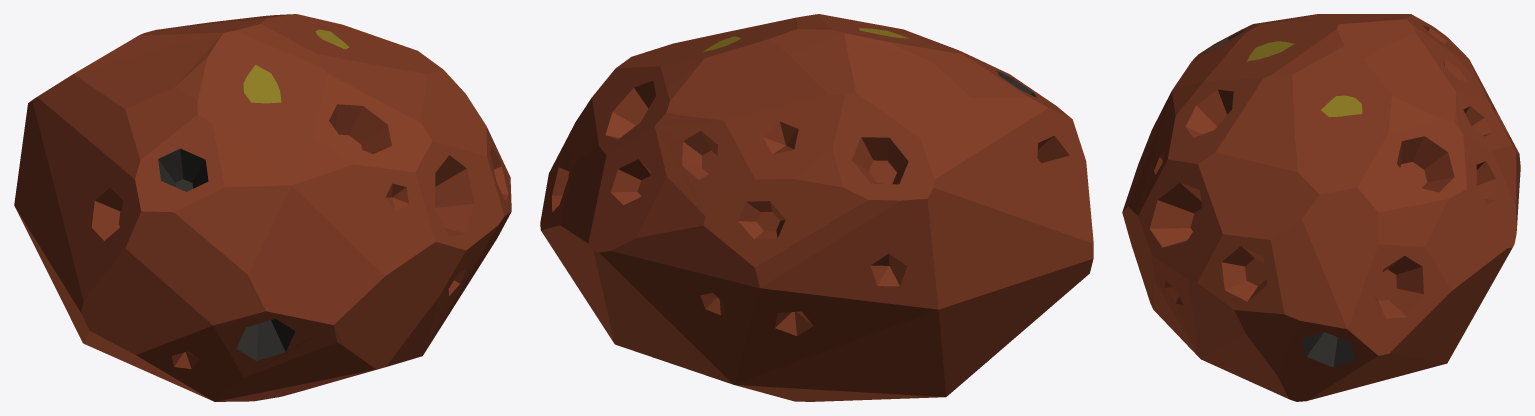
Rendered from red-scoria-rock-35bb9c.glb.
3 renders of one model, left to right at view 1: azimuth 30°, elevation 25°; view 2: azimuth 150°, elevation 25°; view 3: azimuth 270°, elevation 25°, orthographic. The views are drawn at different scales.
Visible parts, largest first — view 1: stone; view 2: stone; view 3: stone.
Boxes of the visible parts, left/top/right/bottom form: stone: left=14, top=14, right=511, bottom=401; stone: left=540, top=14, right=1093, bottom=401; stone: left=1122, top=14, right=1520, bottom=401.
Bounding box in the file's own units: 0.5981 × 0.4023 × 0.4815.
